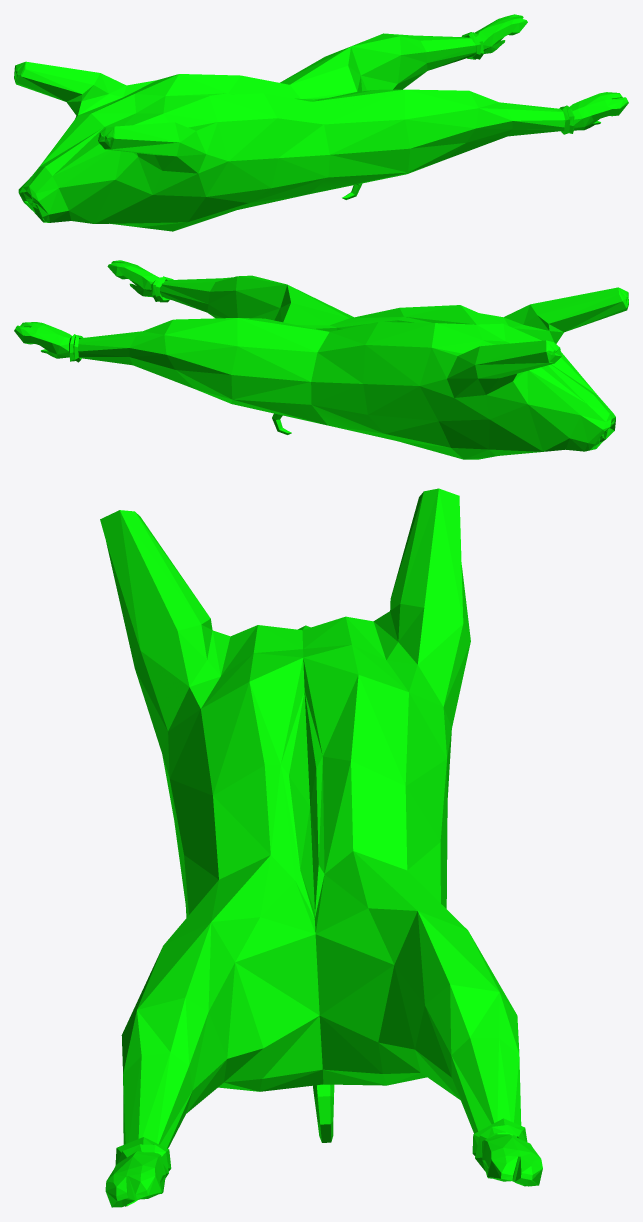
Rendered from SM_Pig_Torso_Fantasy.fbx.
The picture shows the model from 3 angles, top to bottom: view 1: azimuth 30°, elevation 25°; view 2: azimuth 150°, elevation 25°; view 3: azimuth 270°, elevation 25°; orthographic projection. The views are drawn at different scales.
Parts seen in each view (by area): view 1: pig-torso-fantasy; view 2: pig-torso-fantasy; view 3: pig-torso-fantasy.
Part boxes in pixels (x1,y1,x2,y2): pig-torso-fantasy: (14, 14, 628, 231); pig-torso-fantasy: (14, 260, 628, 459); pig-torso-fantasy: (100, 488, 542, 1207).
Size of the model in its own units: 1.82 by 0.5861 by 0.6369.
